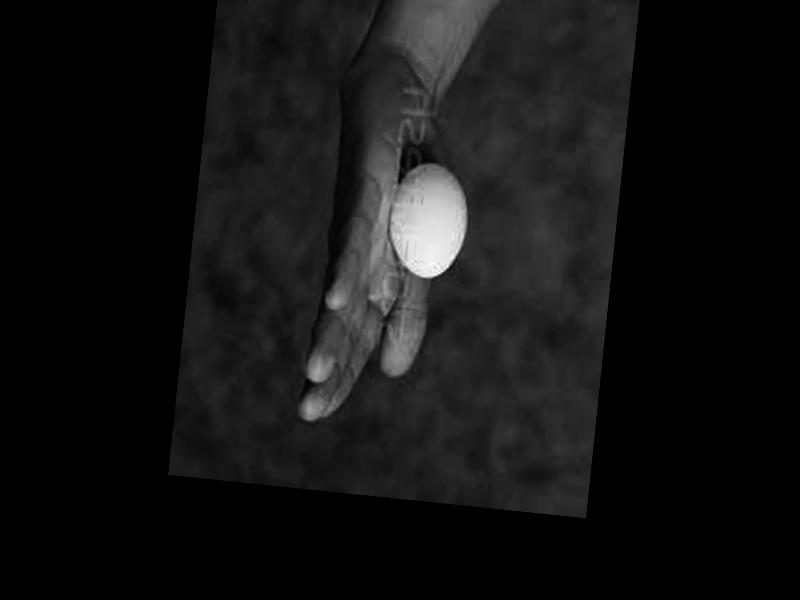Eggs: (384, 158, 475, 281)
